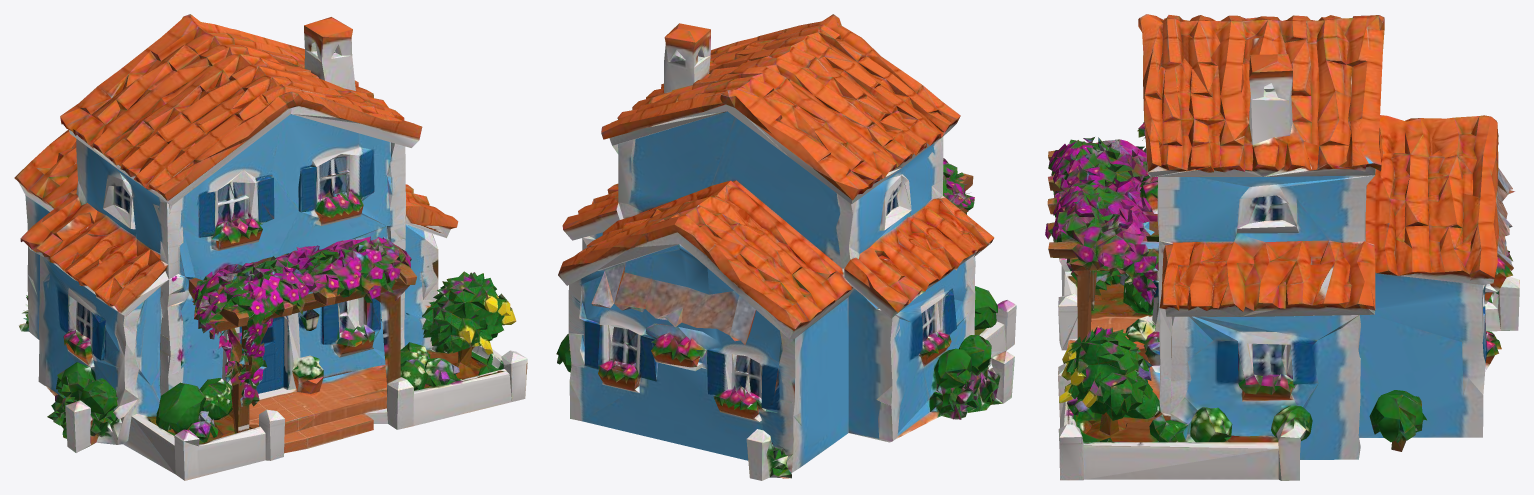
The model's file is b_villa.glb.
3 renders of one model, left to right at view 1: azimuth 30°, elevation 25°; view 2: azimuth 150°, elevation 25°; view 3: azimuth 270°, elevation 25°, orthographic. The views are drawn at different scales.
Size of the model in its own units: 1.86 by 1.49 by 1.74.
Materials: 1 (1 with a texture image).
